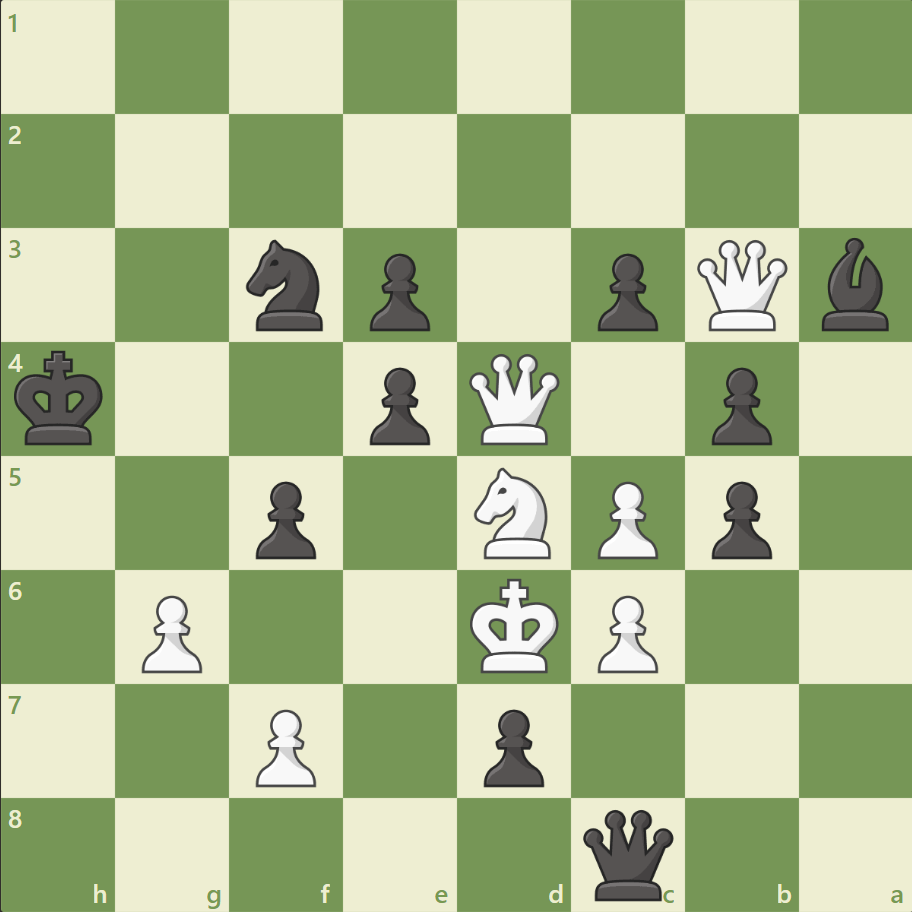K: (465, 571, 565, 679)
N: (465, 461, 562, 564)
P: (247, 700, 322, 791), (133, 586, 208, 677), (588, 586, 662, 677), (588, 473, 662, 564)
Q: (464, 349, 563, 449), (691, 236, 790, 335)
b: (812, 233, 896, 336)
k: (11, 344, 111, 452)
n: (238, 234, 335, 337)
p: (474, 700, 549, 791), (701, 473, 776, 564), (247, 473, 322, 564), (701, 359, 776, 450), (361, 359, 435, 450), (588, 246, 662, 337), (361, 246, 435, 337)
q: (578, 804, 677, 903)
